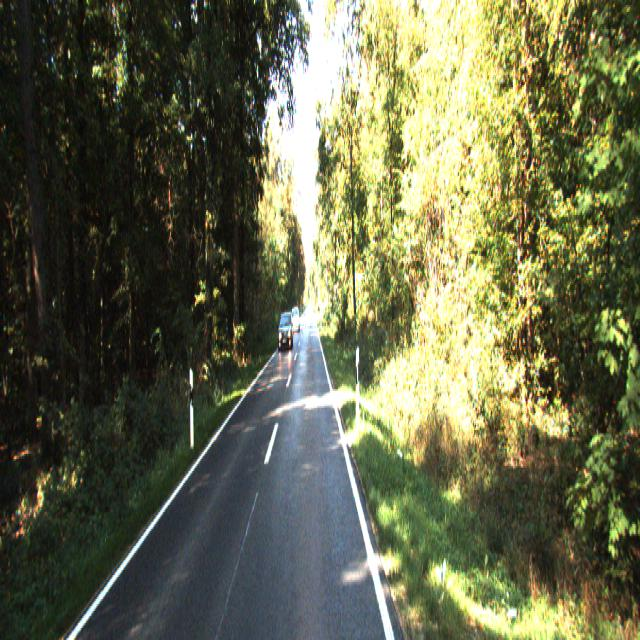Car: (277, 310, 293, 352)
